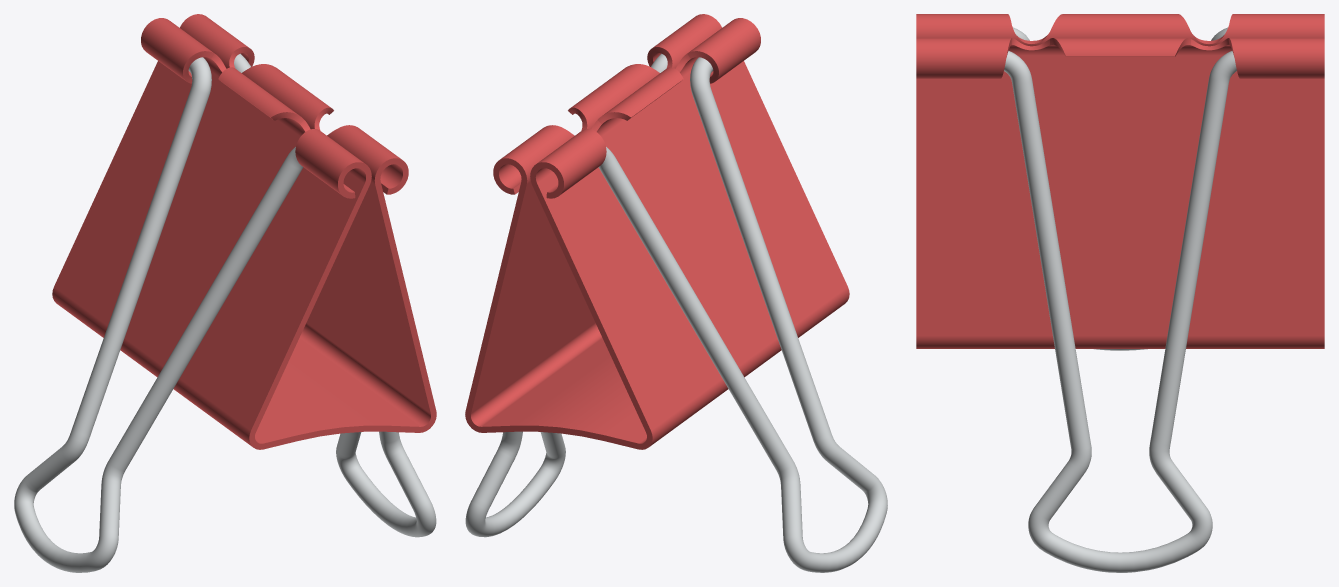
The model's file is jiazi.glb.
3 views of the same model, side by side, from view 1: azimuth 30°, elevation 25°; view 2: azimuth 150°, elevation 25°; view 3: azimuth 270°, elevation 25° (orthographic). The views are drawn at different scales.
Parts seen in each view (by area): view 1: 夹子主体-1, 园杆-2, 园杆-1; view 2: 夹子主体-1, 园杆-2, 园杆-1; view 3: 夹子主体-1, 园杆-1.
Part boxes in pixels (left/top/right/bottom): 夹子主体-1: left=52, top=14, right=436, bottom=449; 园杆-2: left=14, top=57, right=303, bottom=572; 园杆-1: left=234, top=53, right=436, bottom=537; 夹子主体-1: left=465, top=14, right=849, bottom=449; 园杆-2: left=598, top=57, right=887, bottom=572; 园杆-1: left=465, top=53, right=667, bottom=537; 夹子主体-1: left=916, top=14, right=1324, bottom=348; 园杆-1: left=1004, top=51, right=1236, bottom=572.
Size of the model in its own units: 0.0316 by 0.0394 by 0.03.
